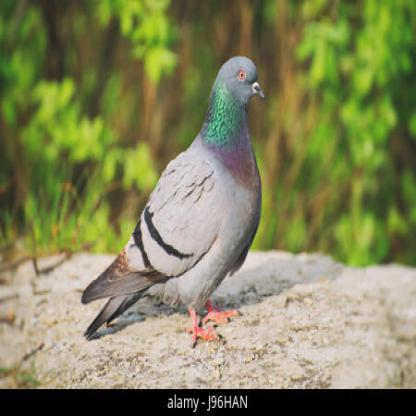Rock Pigeon: (82, 54, 267, 353)
